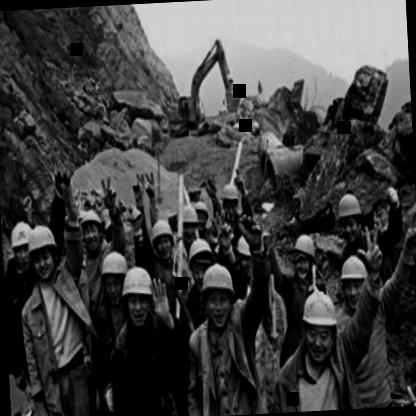helmet: (298, 282, 340, 366), (198, 259, 238, 327), (120, 264, 155, 326), (28, 222, 58, 279), (78, 200, 107, 258), (335, 188, 364, 242), (98, 250, 128, 300), (184, 236, 216, 282), (7, 218, 35, 270), (340, 252, 368, 304), (148, 216, 176, 262), (291, 232, 315, 278), (236, 232, 261, 274), (217, 180, 240, 221), (176, 202, 200, 241)
